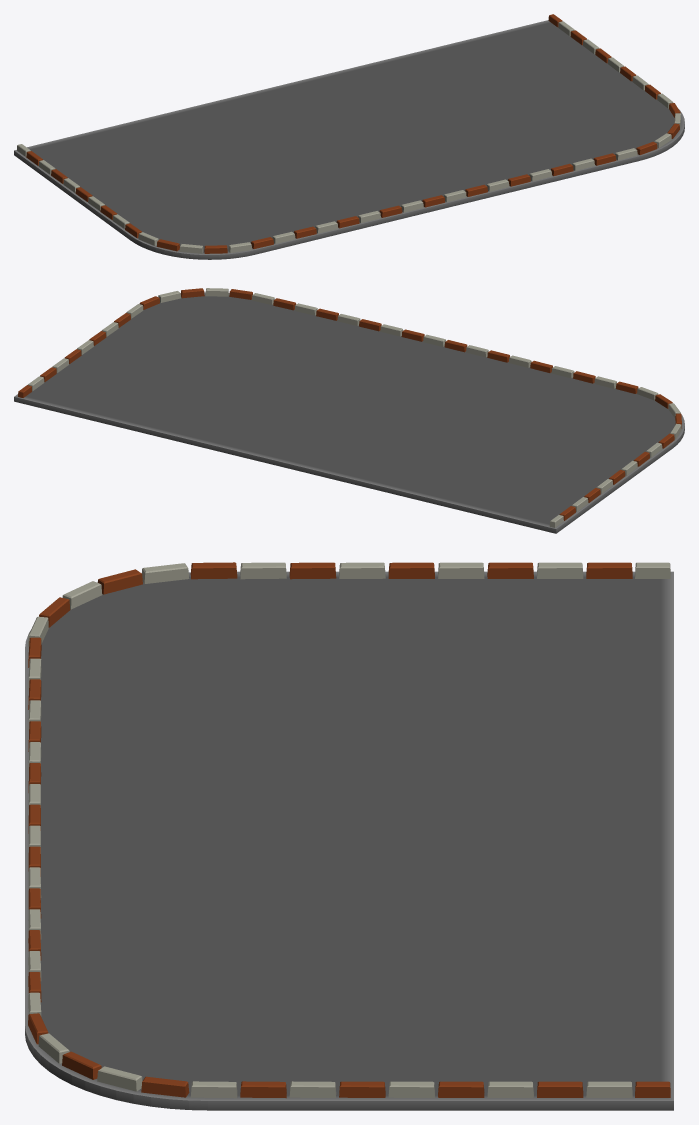
File: border_cafe.fbx
3 views of the same model, one above another, from view 1: azimuth 30°, elevation 25°; view 2: azimuth 150°, elevation 25°; view 3: azimuth 270°, elevation 25° (orthographic). The views are drawn at different scales.
Visible parts, largest first — view 1: border_cafe; view 2: border_cafe; view 3: border_cafe.
Boxes of the visible parts, bbox=[...] form: border_cafe: bbox=[14, 14, 684, 259]; border_cafe: bbox=[14, 288, 684, 533]; border_cafe: bbox=[25, 562, 673, 1110].
Bounding box in the file's own units: 27 × 14 × 0.5057.
